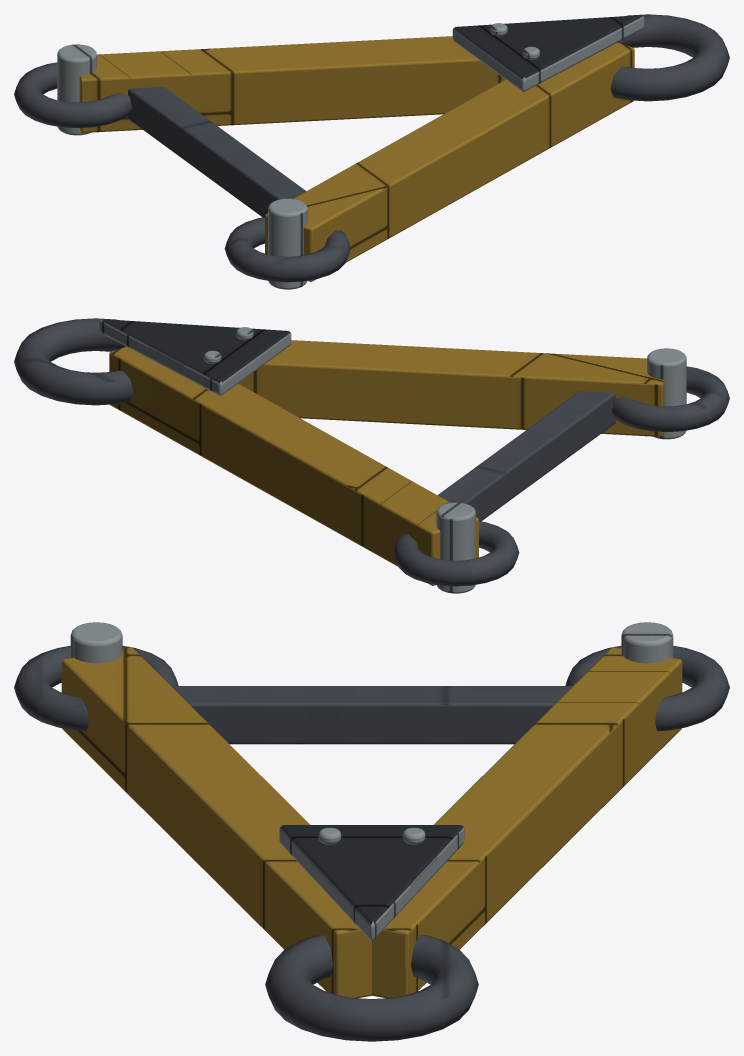
File: cargo-tow-bridle-yoke_lod0.glb
The picture shows the model from 3 angles, top to bottom: view 1: azimuth 30°, elevation 25°; view 2: azimuth 150°, elevation 25°; view 3: azimuth 270°, elevation 25°; orthographic projection. The views are drawn at different scales.
Parts seen in each view (by area): view 1: LOD0_Livery, LOD0_Mechanical, LOD0_BrushedMetal, LOD0_Armor; view 2: LOD0_Livery, LOD0_Mechanical, LOD0_BrushedMetal, LOD0_Armor; view 3: LOD0_Livery, LOD0_Mechanical, LOD0_Armor, LOD0_BrushedMetal.
Boxes of the visible parts, x1,y1,x2,y2 form: LOD0_Livery: (79, 36, 634, 281); LOD0_Mechanical: (14, 14, 729, 282); LOD0_BrushedMetal: (57, 15, 644, 289); LOD0_Armor: (454, 15, 642, 91); LOD0_Livery: (109, 340, 664, 585); LOD0_Mechanical: (14, 318, 729, 586); LOD0_BrushedMetal: (99, 319, 686, 593); LOD0_Armor: (102, 319, 290, 395); LOD0_Livery: (61, 647, 682, 998); LOD0_Mechanical: (14, 645, 729, 1041); LOD0_Armor: (281, 825, 463, 924); LOD0_BrushedMetal: (70, 622, 673, 940).
Bounding box in the file's own units: 2.75 × 0.385 × 2.21.
Materials: 4 (4 with a texture image).
